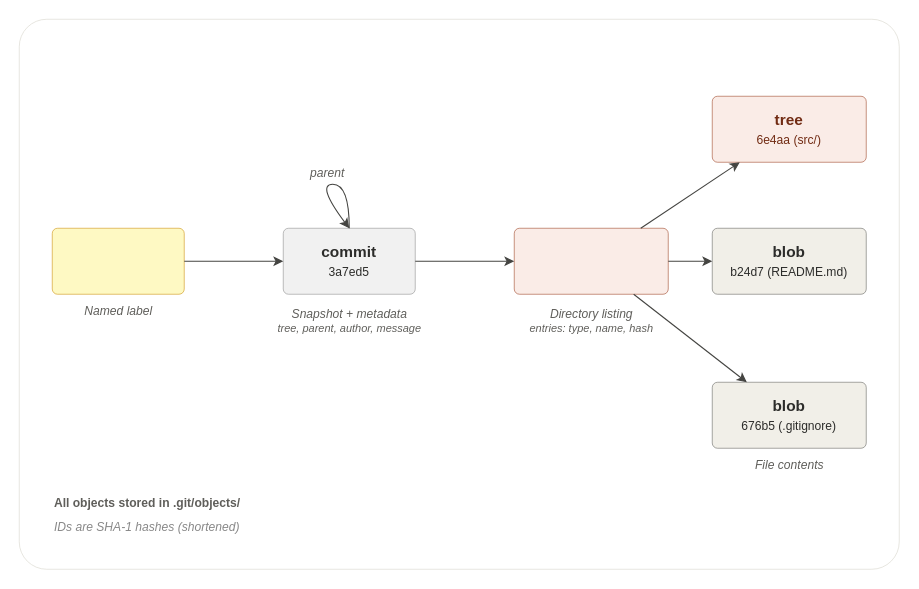
Some shapes in this 919 by 589 pixel diagram are drawn without their labels. The centre of each missing label's shape, as x and y in pixels:
"tag v1.0" goes at point (117, 260).
"tree da8d6f (root)" goes at point (590, 260).
